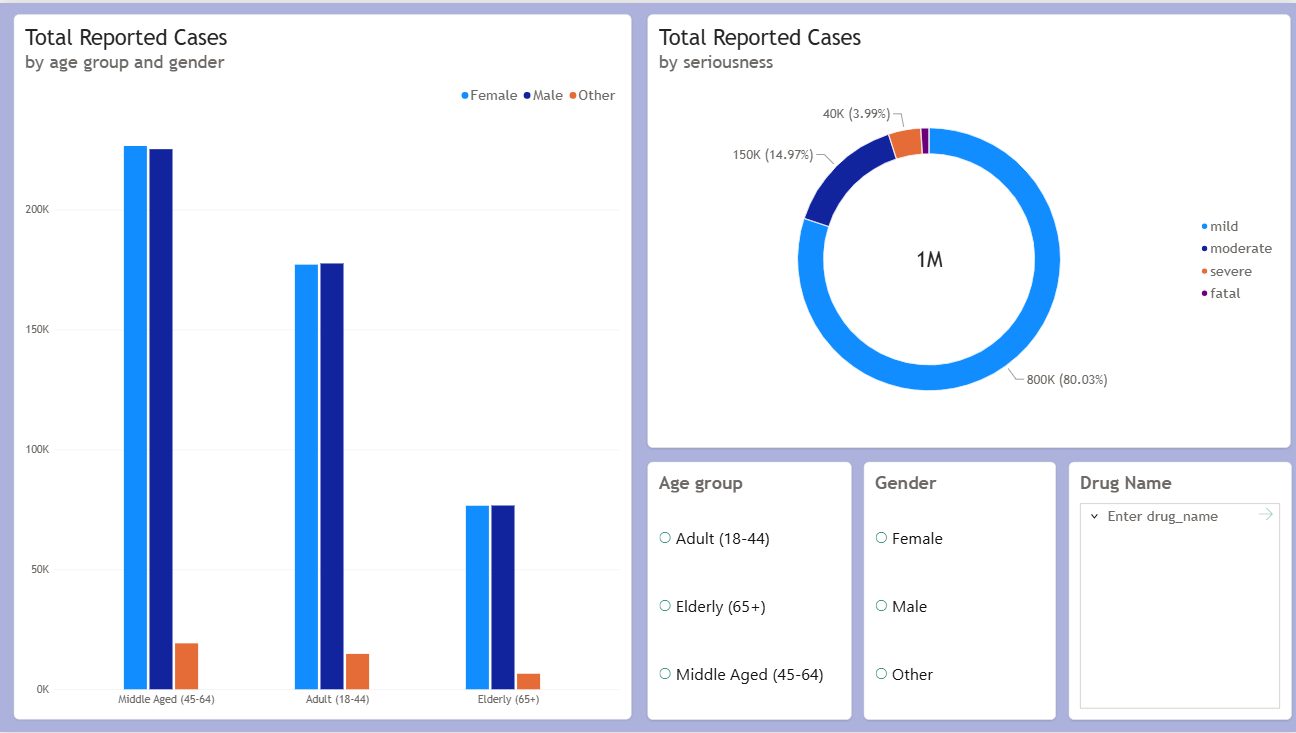

Layout of this report page (visuals, bound fields, positions):
{"tool":"powerbi","page":{"name":"Demographic & Outcome Breakdown","canvas":[1920,1080],"ordinal":1},"visuals":[{"type":"donutChart","title":"Outcome Severity Share","fields":{"Category":["Dim_Events.seriousness"],"Y":["_Measures.Total Reported Cases"]},"box":[960,17.5,952.5,642.5],"z":0},{"type":"clusteredColumnChart","title":"Demographic Vulnerability","fields":{"Category":["Dim_Patients.age_group"],"Series":["Dim_Patients.gender"],"Y":["_Measures.Total Reported Cases"]},"box":[20,17.5,915,1045],"z":1000},{"type":"listSlicer","fields":{"Values":["Dim_Patients.age_group"]},"box":[960,680,302.5,382.5],"z":2000},{"type":"listSlicer","fields":{"Values":["Dim_Patients.gender"]},"box":[1280,680,285,382.5],"z":3000},{"type":"textSlicer","fields":{"Values":["Dim_Drugs.drug_name"]},"box":[1582.5,680,330,382.5],"z":4000}]}

Visuals, with their boxes in screenshot pixels (x1, y1, x2, y2), scaled from the page's 1920x1080 canvas onto the 1296x733 screenshot:
"Outcome Severity Share" donutChart: pyautogui.locateOnScreen(648, 12, 1291, 448)
"Demographic Vulnerability" clusteredColumnChart: pyautogui.locateOnScreen(14, 12, 631, 721)
listSlicer - Dim_Patients.age_group: pyautogui.locateOnScreen(648, 462, 852, 721)
listSlicer - Dim_Patients.gender: pyautogui.locateOnScreen(864, 462, 1056, 721)
textSlicer - Dim_Drugs.drug_name: pyautogui.locateOnScreen(1068, 462, 1291, 721)
